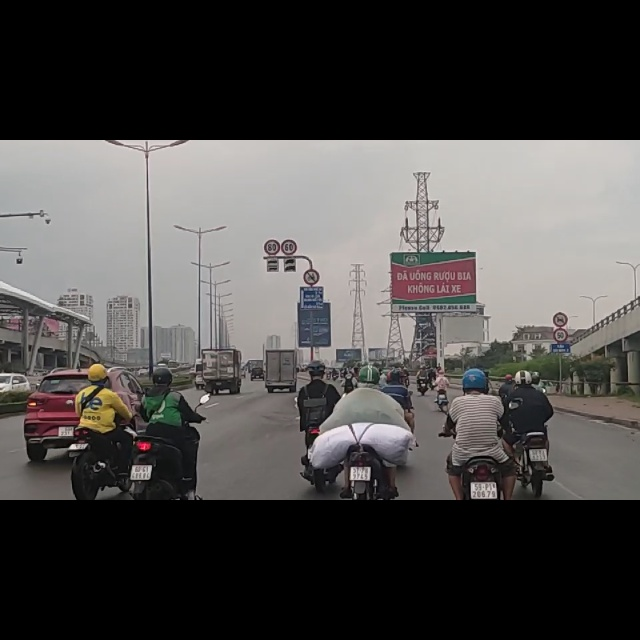bien_cam: (303, 229, 321, 258), (263, 175, 279, 204), (281, 178, 296, 204), (554, 335, 568, 361), (553, 307, 568, 331)
